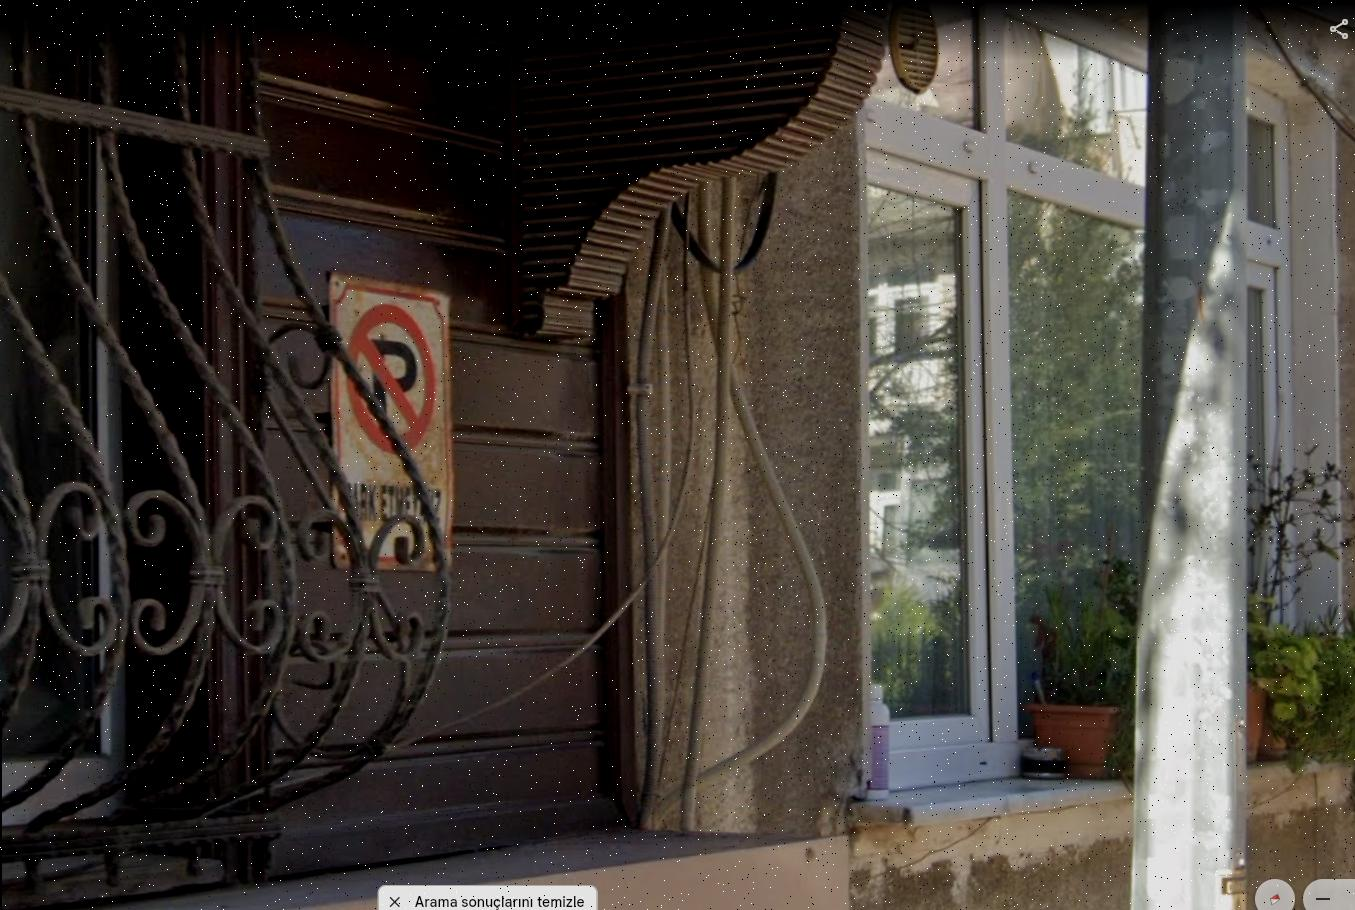nopark: (350, 303, 436, 454)
